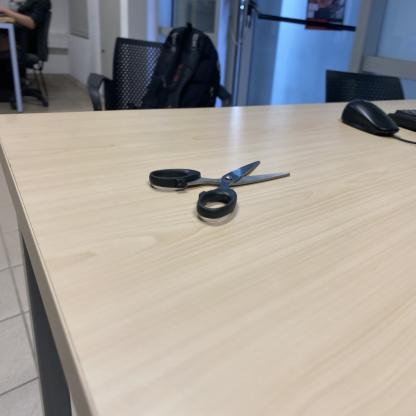scissors: (148, 156, 292, 223)
